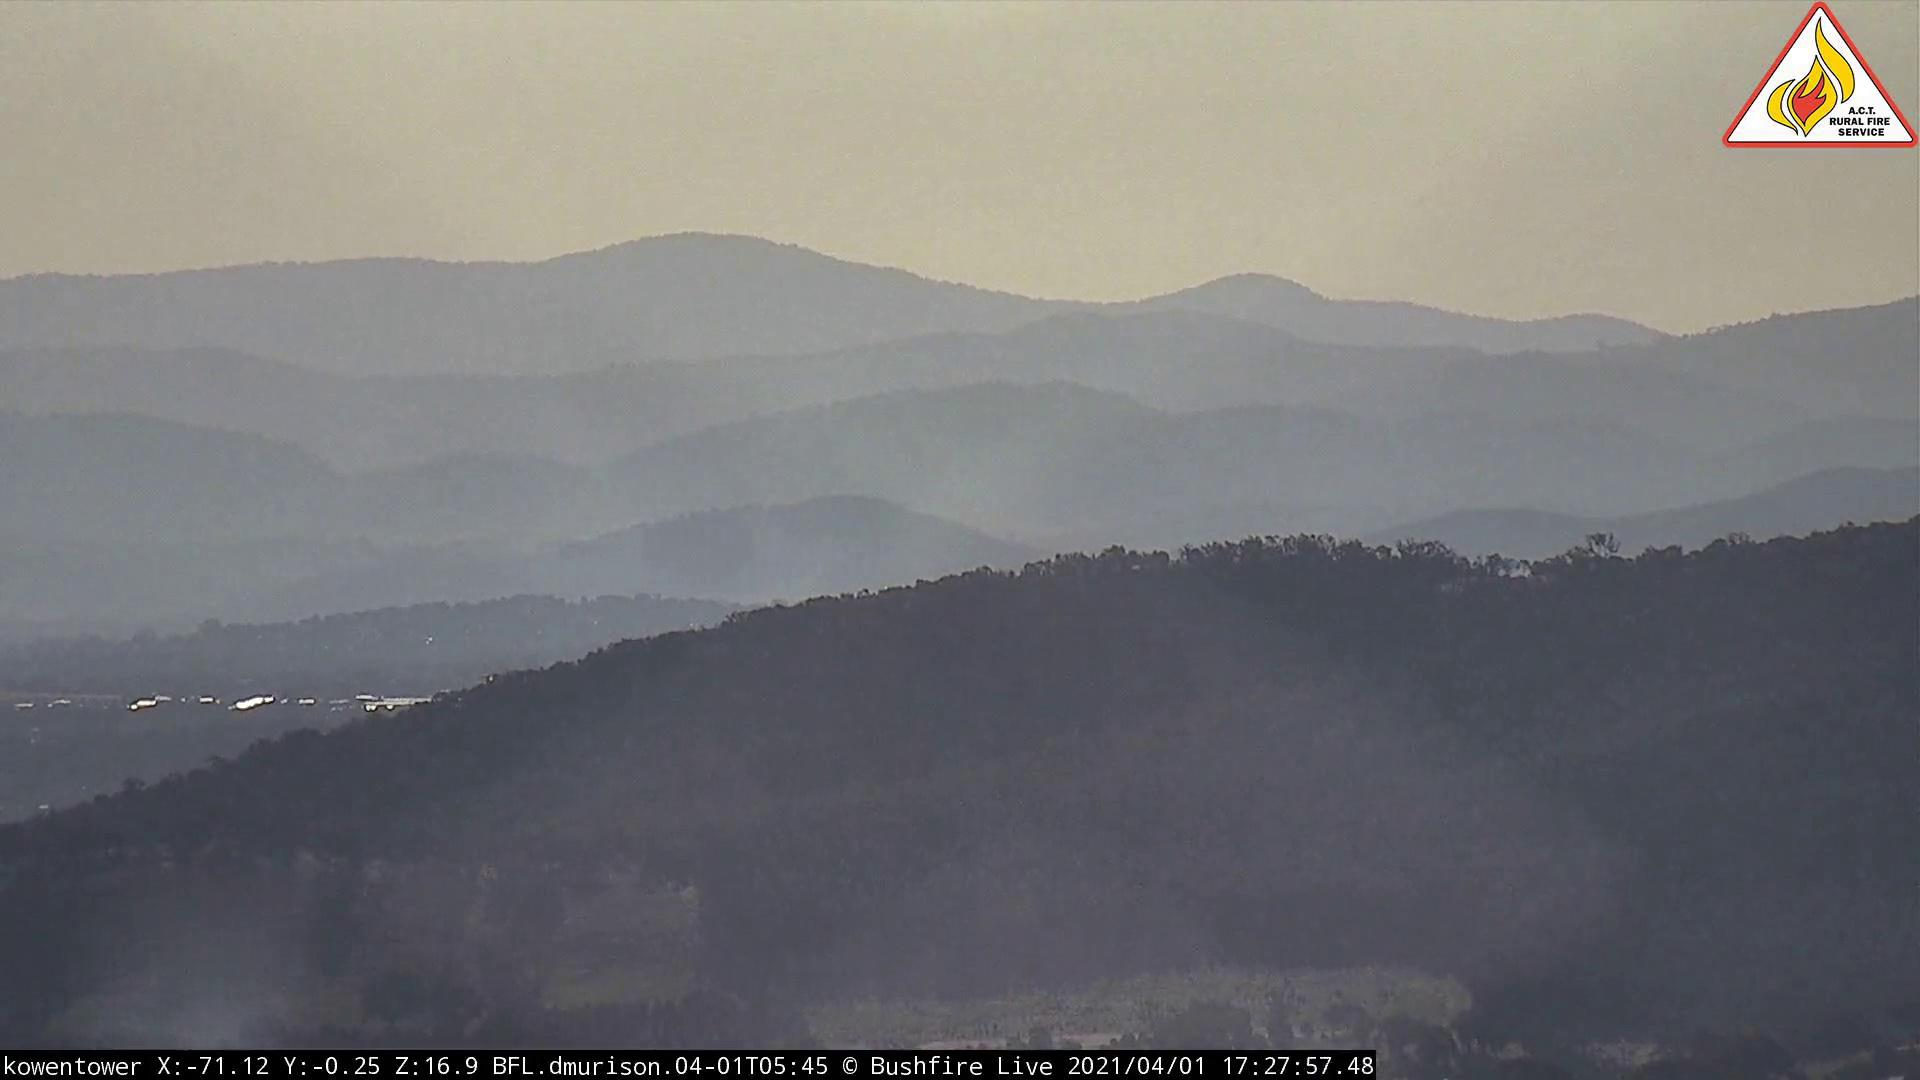Smoke: (531, 414, 1046, 622)
